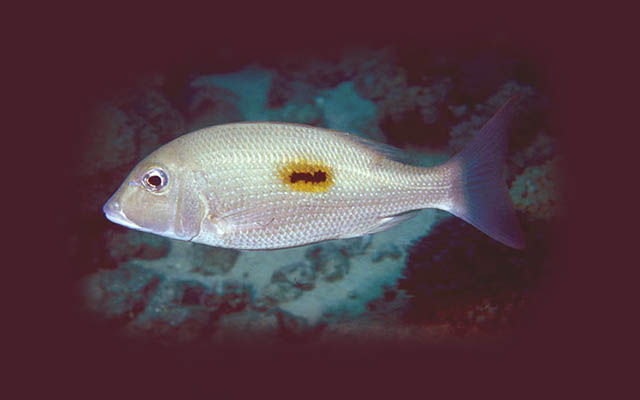fish: (103, 92, 530, 253)
